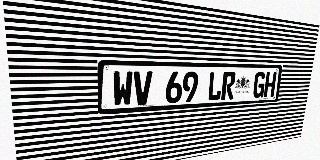6: (165, 71, 183, 103)
9: (182, 71, 199, 102)
G: (252, 72, 266, 98)
H: (263, 72, 277, 97)
L: (207, 72, 223, 101)
R: (221, 72, 236, 100)
V: (133, 71, 153, 105)
W: (113, 71, 133, 107)
